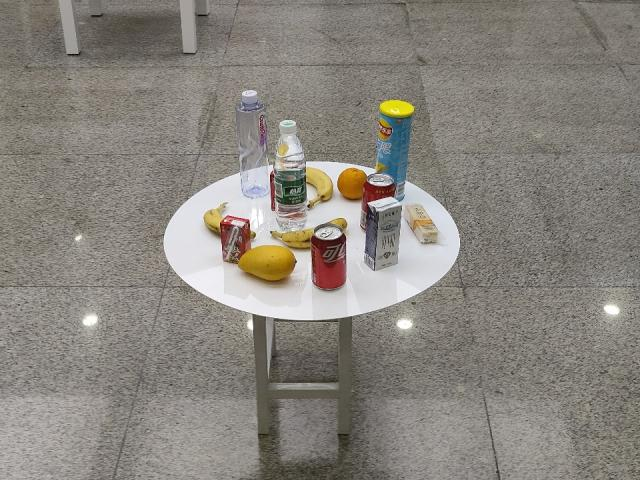Canned_drinks: (314, 227, 348, 292)
bottle: (274, 120, 308, 229), (237, 90, 272, 195)
cylinder: (379, 100, 411, 175)
drink_box: (366, 198, 399, 267), (224, 217, 247, 263)
